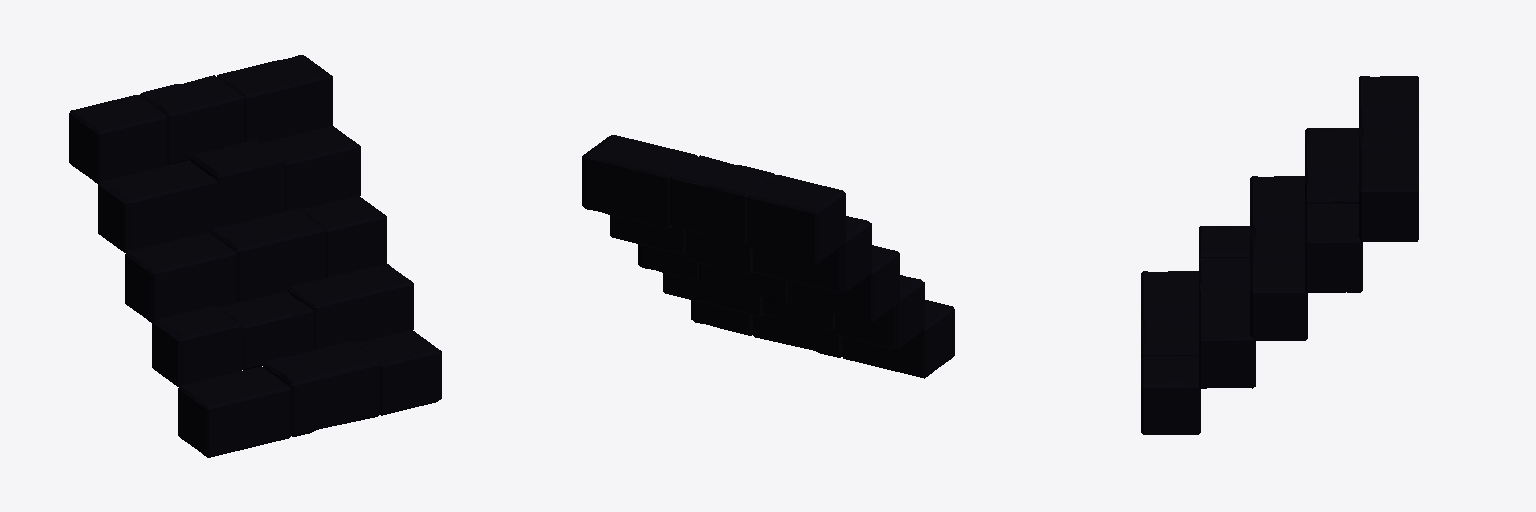
Rendered from Stairs_Modular.obj.
3 renders of one model, left to right at view 1: azimuth 30°, elevation 25°; view 2: azimuth 150°, elevation 25°; view 3: azimuth 270°, elevation 25°, orthographic.
Visible parts, largest first — view 1: Stairs_Modular_Cube.031; view 2: Stairs_Modular_Cube.031; view 3: Stairs_Modular_Cube.031.
Boxes of the visible parts, x1=… form: Stairs_Modular_Cube.031: x1=69, y1=55, x2=441, y2=457; Stairs_Modular_Cube.031: x1=582, y1=135, x2=954, y2=378; Stairs_Modular_Cube.031: x1=1141, y1=76, x2=1418, y2=434.
Size of the model in its own units: 2.01 by 2.02 by 2.05.